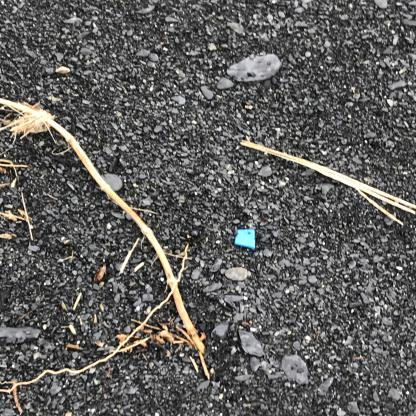Other plastic bottle: (233, 229, 255, 249)
